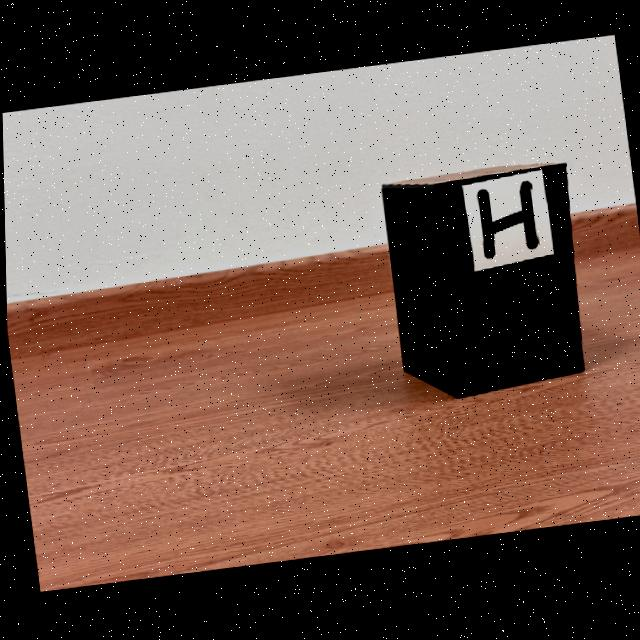H: (476, 184, 537, 261)
